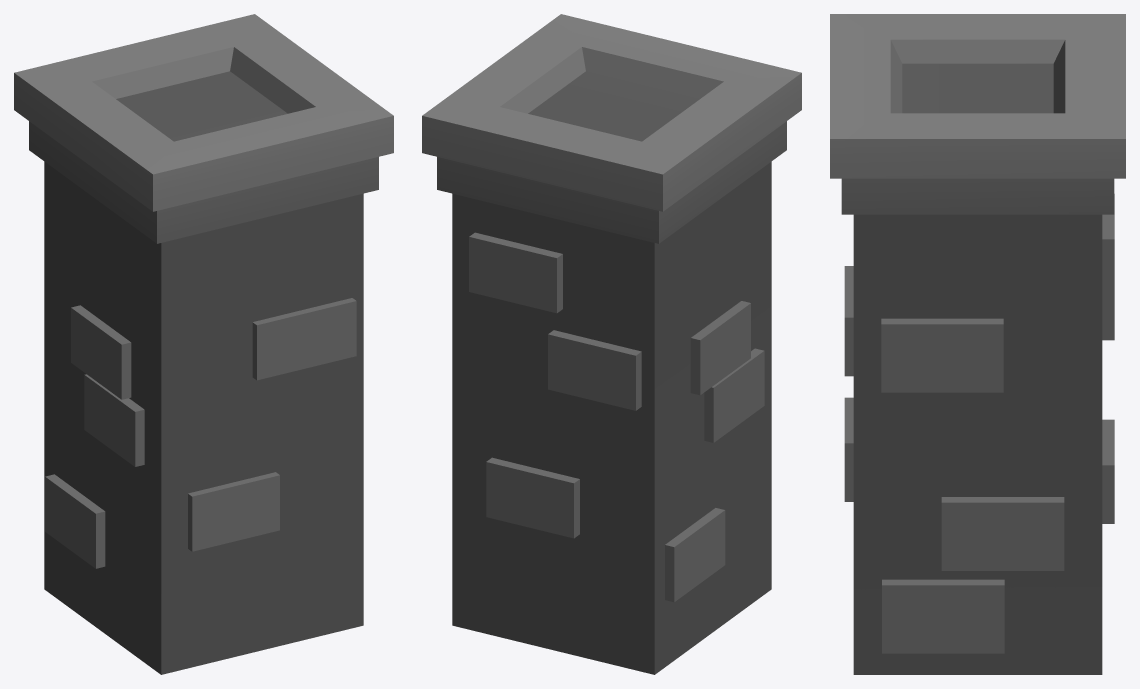
Rendered from Chimney_4_B_1.fbx.
The picture shows the model from 3 angles, left to right: view 1: azimuth 30°, elevation 25°; view 2: azimuth 150°, elevation 25°; view 3: azimuth 270°, elevation 25°; orthographic projection. The views are drawn at different scales.
Visible parts, largest first — view 1: Chimney_4_B_1; view 2: Chimney_4_B_1; view 3: Chimney_4_B_1.
Boxes of the visible parts, x1=… form: Chimney_4_B_1: x1=14, y1=14, x2=393, y2=674; Chimney_4_B_1: x1=422, y1=14, x2=801, y2=674; Chimney_4_B_1: x1=830, y1=14, x2=1125, y2=674.
Size of the model in its own units: 82.7 by 168 by 82.7.
